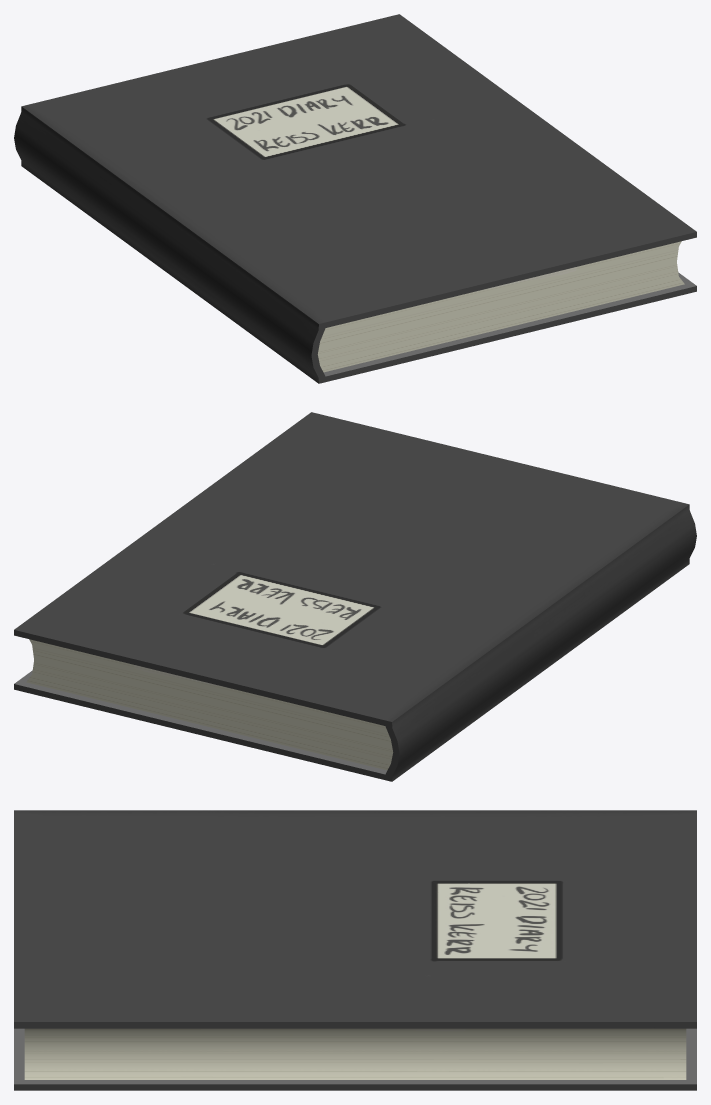
File: maya2sketchfab.fbx
3 renders of one model, top to bottom at view 1: azimuth 30°, elevation 25°; view 2: azimuth 150°, elevation 25°; view 3: azimuth 270°, elevation 25°, orthographic. The views are drawn at different scales.
Visible parts, largest first — view 1: pCube1; view 2: pCube1; view 3: pCube1.
Part boxes in pixels (x1,y1,x2,y2): pCube1: (14,14,696,383); pCube1: (14,412,696,781); pCube1: (14,810,696,1090).
Bounding box in the file's own units: 18.99 × 2.81 × 25.38.
1 material, 1 textured.
